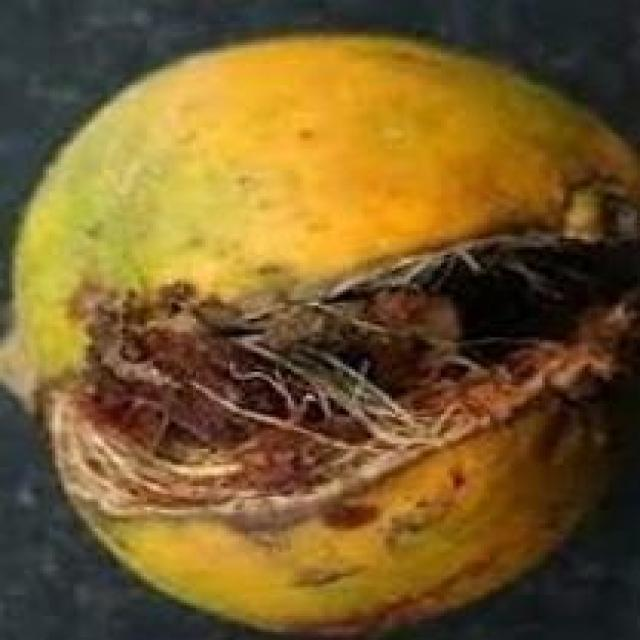damaged: (0, 35, 637, 632)
